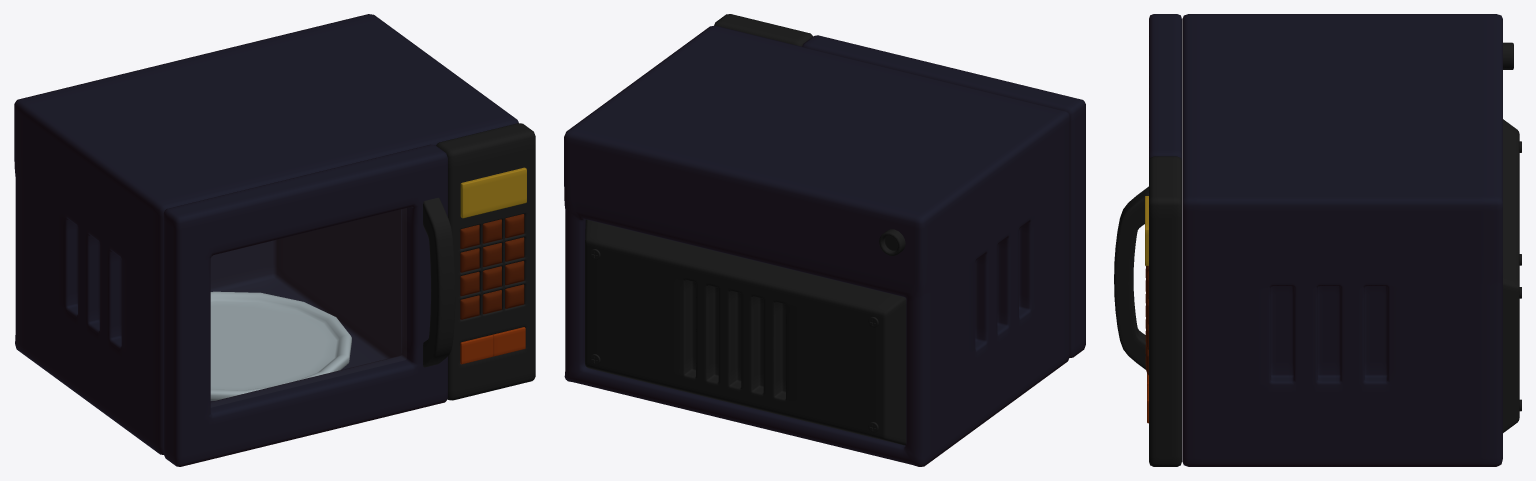
Rendered from Microwave.fbx.
The picture shows the model from 3 angles, left to right: view 1: azimuth 30°, elevation 25°; view 2: azimuth 150°, elevation 25°; view 3: azimuth 270°, elevation 25°; orthographic projection. The views are drawn at different scales.
Visible parts, largest first — view 1: body, door, right_panel, trey, handle, lcd, switch_2_2, switch_2; view 2: body, vent, door, right_panel, plug; view 3: body, right_panel, vent, door, handle.
Part boxes in pixels (x1,y1,x2,y2): body: (14,14,518,454); door: (163,144,447,466); right_panel: (436,123,535,400); trey: (210,291,351,400); handle: (423,197,455,367); lcd: (460,167,526,218); switch_2_2: (460,335,493,364); switch_2: (492,327,525,356); body: (564,25,1070,466); vent: (585,219,906,445); door: (802,35,1085,357); right_panel: (714,14,812,46); plug: (879,229,905,255); body: (1182,14,1502,466); right_panel: (1149,156,1181,466); vent: (1503,119,1519,432); door: (1149,14,1181,160); handle: (1114,186,1148,369).
Bounding box in the file's own units: 4.08 × 2.7 × 3.73.
